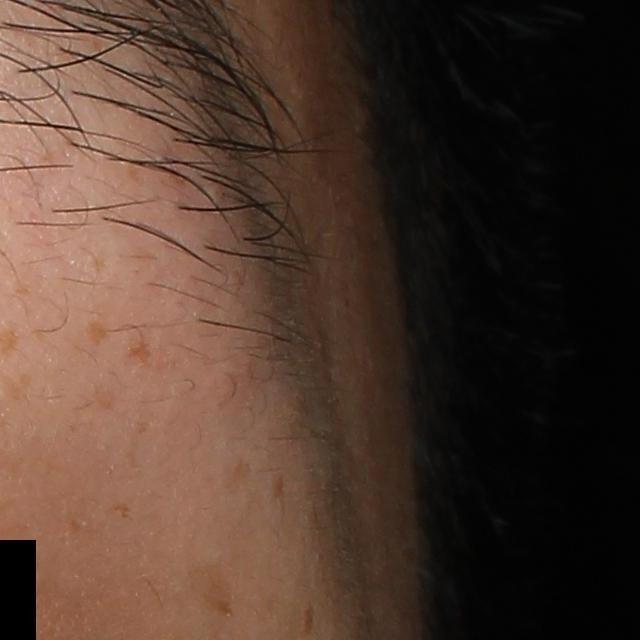melasma: (186, 549, 245, 625)
